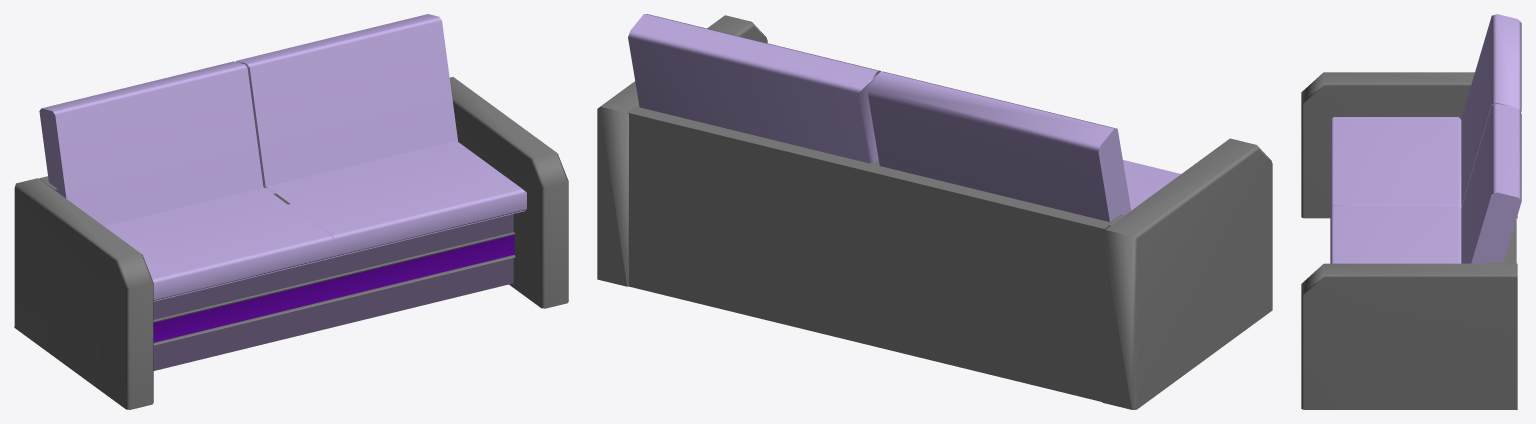
File: Couch.fbx
The picture shows the model from 3 angles, left to right: view 1: azimuth 30°, elevation 25°; view 2: azimuth 150°, elevation 25°; view 3: azimuth 270°, elevation 25°; orthographic projection. The views are drawn at different scales.
Parts seen in each view (by area): view 1: pCube9, pCube4, pCube1, pCube6, pCube3, pCube2, pCube10; view 2: pCube8, pCube6, pCube9, pCube4, pCube10, pCube2; view 3: pCube10, pCube2, pCube6, pCube3, pCube4, pCube9, pCube8.
Part boxes in pixels (bbox=[...]): pCube9: bbox=[39, 61, 263, 226]; pCube4: bbox=[236, 14, 457, 193]; pCube1: bbox=[153, 214, 515, 370]; pCube6: bbox=[14, 178, 153, 409]; pCube3: bbox=[266, 140, 526, 257]; pCube2: bbox=[104, 187, 334, 301]; pCube10: bbox=[449, 77, 568, 308]; pCube8: bbox=[627, 104, 1123, 401]; pCube6: bbox=[1102, 138, 1272, 409]; pCube9: bbox=[867, 71, 1131, 229]; pCube4: bbox=[628, 14, 881, 163]; pCube10: bbox=[597, 15, 767, 286]; pCube2: bbox=[1123, 160, 1180, 210]; pCube10: bbox=[1301, 263, 1517, 409]; pCube2: bbox=[1330, 117, 1461, 208]; pCube6: bbox=[1301, 72, 1517, 218]; pCube3: bbox=[1330, 205, 1461, 263]; pCube4: bbox=[1461, 103, 1521, 263]; pCube9: bbox=[1461, 14, 1521, 207]; pCube8: bbox=[1487, 219, 1516, 263].
Bounding box in the file's own units: 2.61 × 1.22 × 1.19.
